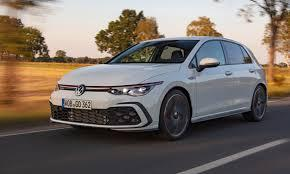volkswagen: (72, 80, 89, 97)
